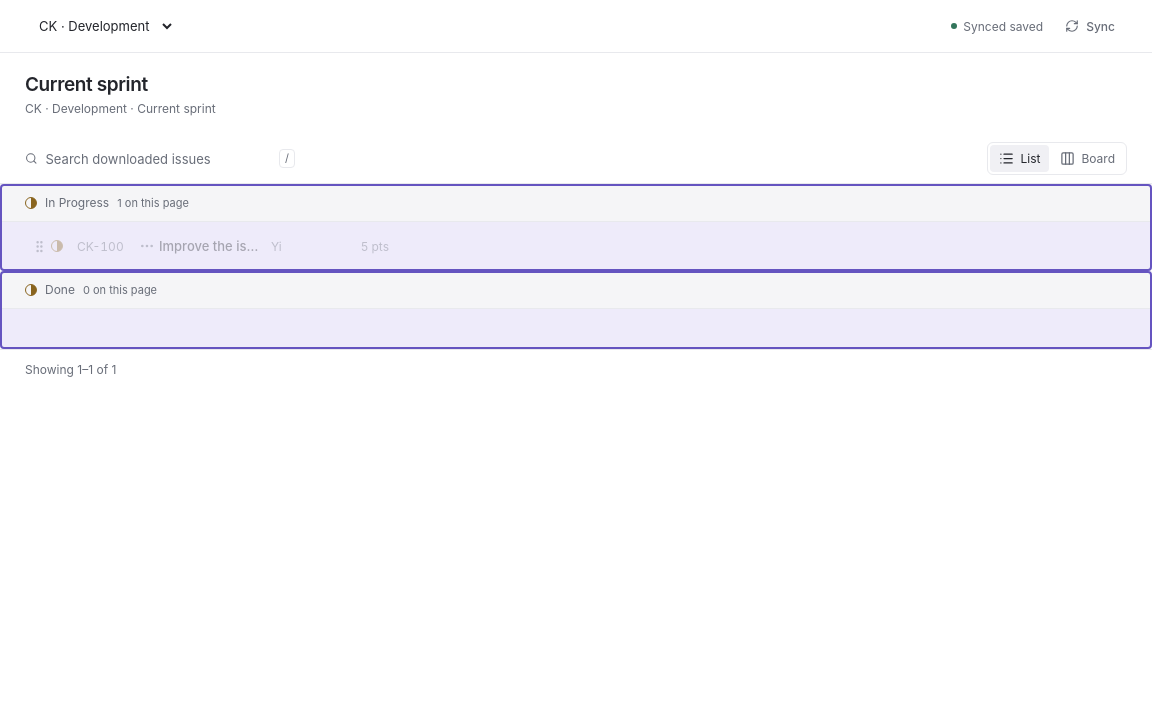
offline workspace › opens cached detail with safe rich text and collapsed additional fields
The image size is (1152, 720).
Click the button "CK-100 Improve the issue cache Yi 5 pts" at (86, 246), box [51,230,121,262]
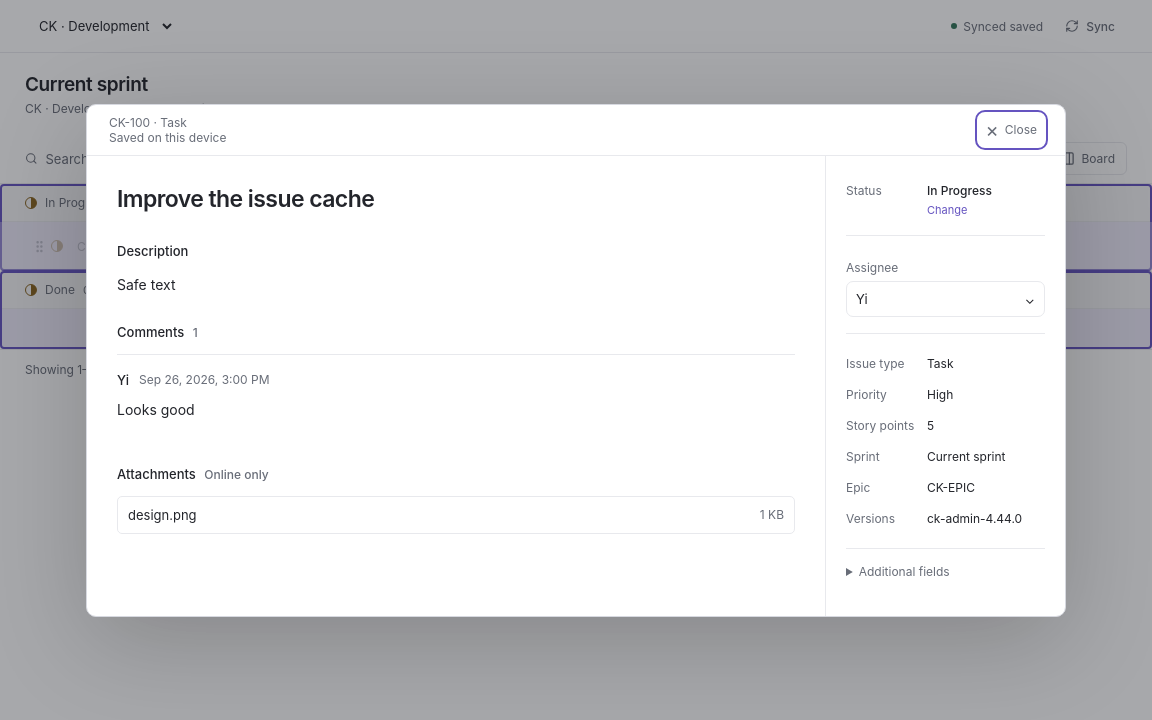
Result: the dialog "Improve the issue cache" is shown
Click the heading "Additional fields" at (904, 571), box [859,564,950,578]
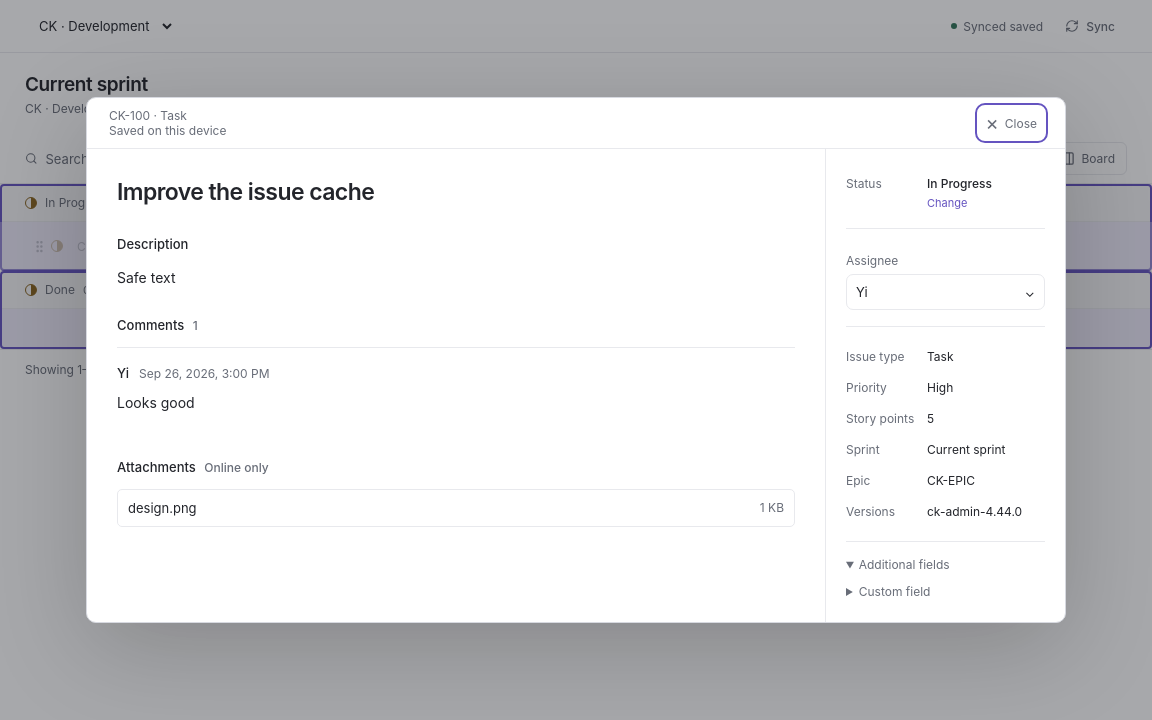
Result: the text "design.png" is shown at [128,500,197,516]
Result: the text "Looks good" is shown at [117,394,195,411]
Result: the heading "Custom field" is shown at [859,584,930,599]
